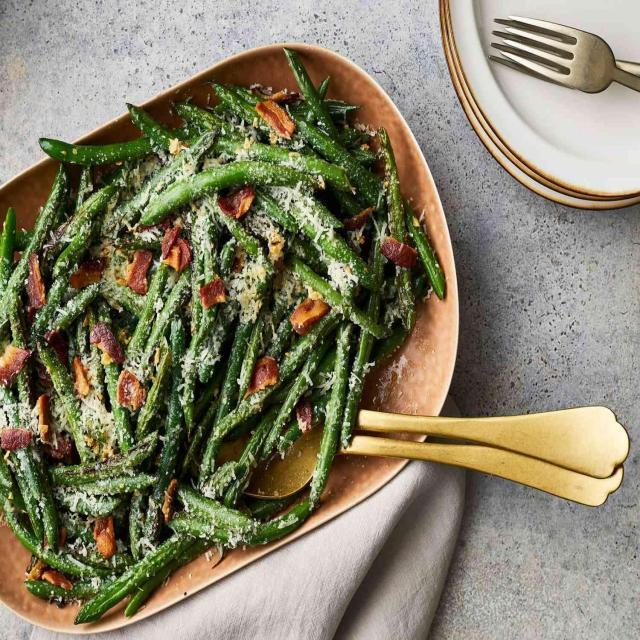Beans: (0, 44, 451, 631)
